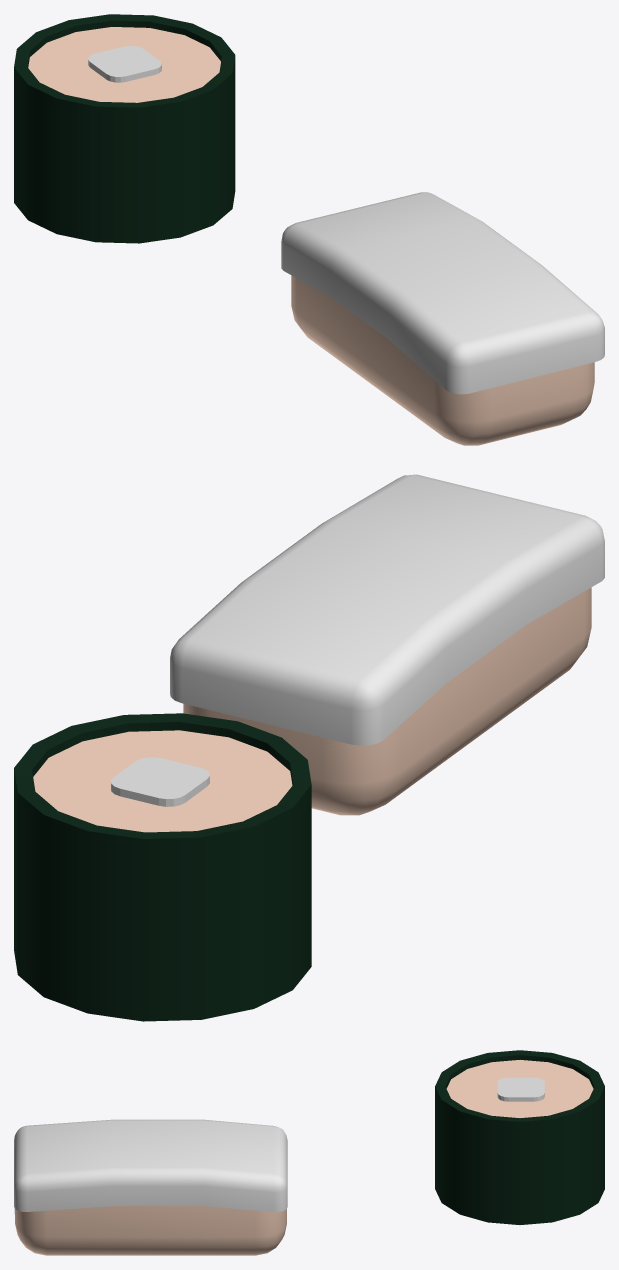
Rendered from sushi.fbx.
3 views of the same model, one above another, from view 1: azimuth 30°, elevation 25°; view 2: azimuth 150°, elevation 25°; view 3: azimuth 270°, elevation 25° (orthographic). The views are drawn at different scales.
Parts seen in each view (by area): view 1: Circle, Cube.001, Cube; view 2: Circle, Cube.001, Cube; view 3: Circle, Cube.001, Cube.
Part boxes in pixels (bbox=[...]): Circle: bbox=[14, 14, 235, 243]; Cube.001: bbox=[281, 192, 604, 394]; Cube: bbox=[291, 275, 594, 445]; Circle: bbox=[14, 713, 311, 1021]; Cube.001: bbox=[170, 474, 604, 745]; Cube: bbox=[183, 587, 591, 815]; Circle: bbox=[435, 1050, 604, 1224]; Cube.001: bbox=[14, 1119, 287, 1212]; Cube: bbox=[14, 1206, 286, 1255].
Bounding box in the file's own units: 1.62 × 0.9971 × 4.33.
